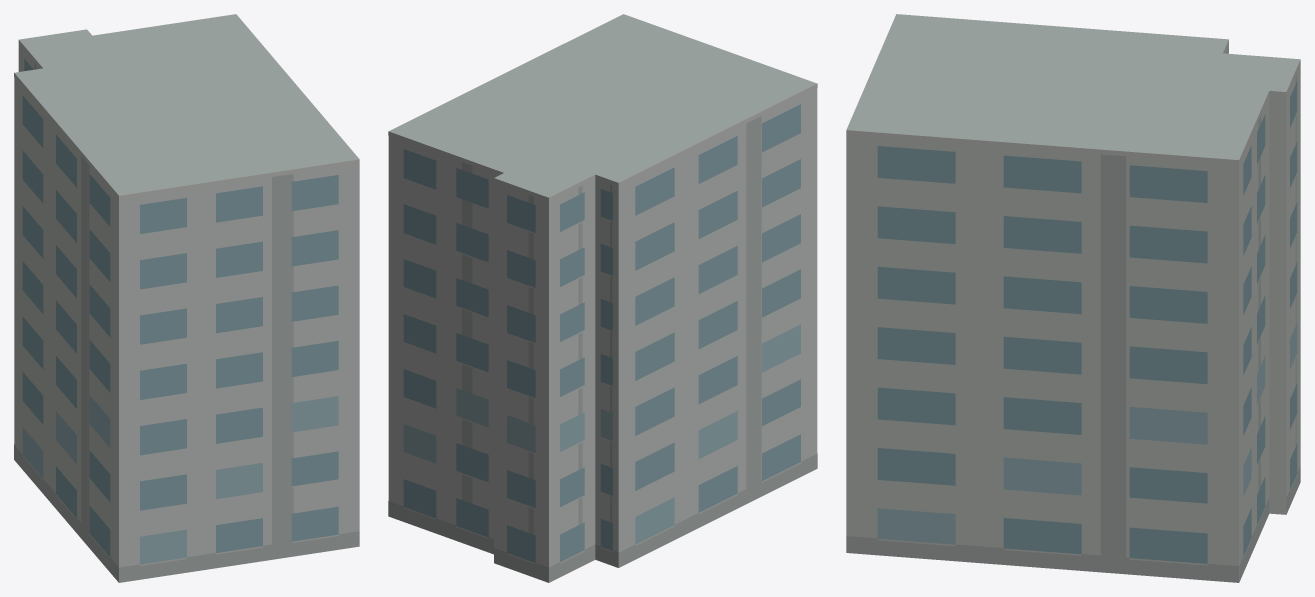
The model's file is survey-upis-33032067.glb.
3 renders of one model, left to right at view 1: azimuth 30°, elevation 25°; view 2: azimuth 150°, elevation 25°; view 3: azimuth 270°, elevation 25°, orthographic. The views are drawn at different scales.
Parts seen in each view (by area): view 1: survey-upis-33032067.tmp; view 2: survey-upis-33032067.tmp; view 3: survey-upis-33032067.tmp.
Part boxes in pixels (bbox=[...]): survey-upis-33032067.tmp: bbox=[14, 14, 359, 582]; survey-upis-33032067.tmp: bbox=[388, 14, 817, 582]; survey-upis-33032067.tmp: bbox=[846, 14, 1300, 582].
Size of the model in its own units: 15.87 by 21.4 by 20.85.
